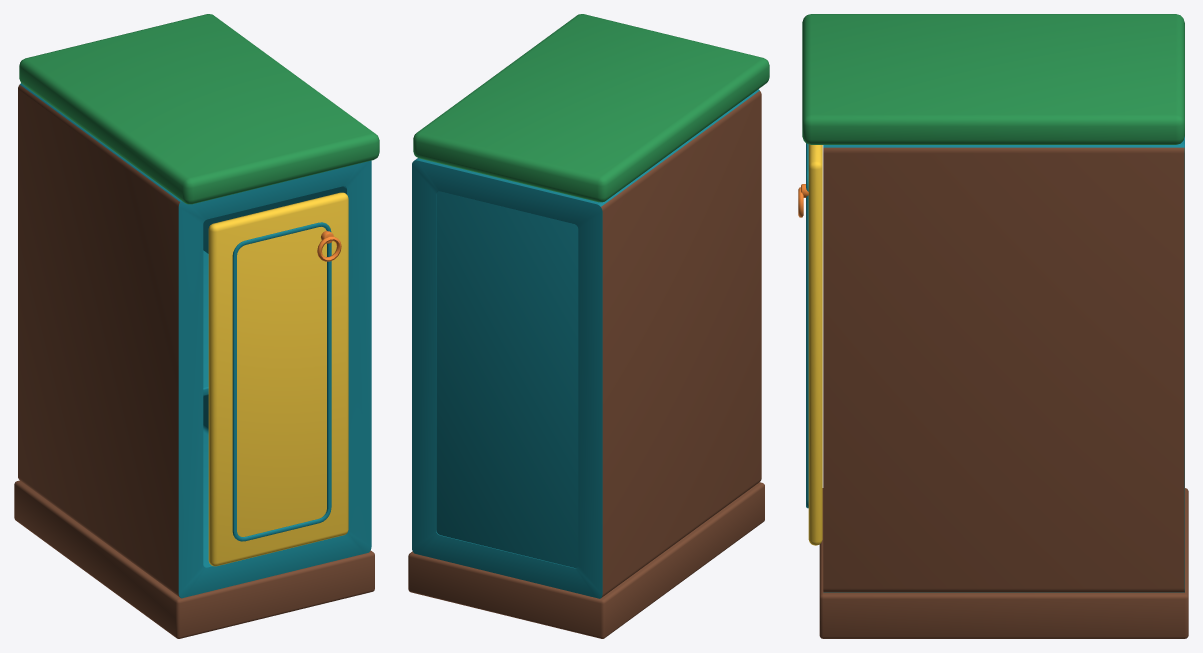
Rendered from armario_cozinha_base_1porta_colonial_mata.glb.
3 views of the same model, side by side, from view 1: azimuth 30°, elevation 25°; view 2: azimuth 150°, elevation 25°; view 3: azimuth 270°, elevation 25° (orthographic). The views are drawn at different scales.
Parts seen in each view (by area): view 1: armario_cozinha_base_1porta_colonial_mata, porta_1; view 2: armario_cozinha_base_1porta_colonial_mata; view 3: armario_cozinha_base_1porta_colonial_mata, porta_1.
Boxes of the visible parts, bbox=[...] form: armario_cozinha_base_1porta_colonial_mata: bbox=[14, 14, 379, 638]; porta_1: bbox=[208, 192, 348, 566]; armario_cozinha_base_1porta_colonial_mata: bbox=[408, 14, 769, 638]; armario_cozinha_base_1porta_colonial_mata: bbox=[802, 14, 1188, 638]; porta_1: bbox=[798, 143, 822, 545].
Size of the model in its own units: 0.404 by 0.9 by 0.6112.
Materials: 1 (1 with a texture image).
